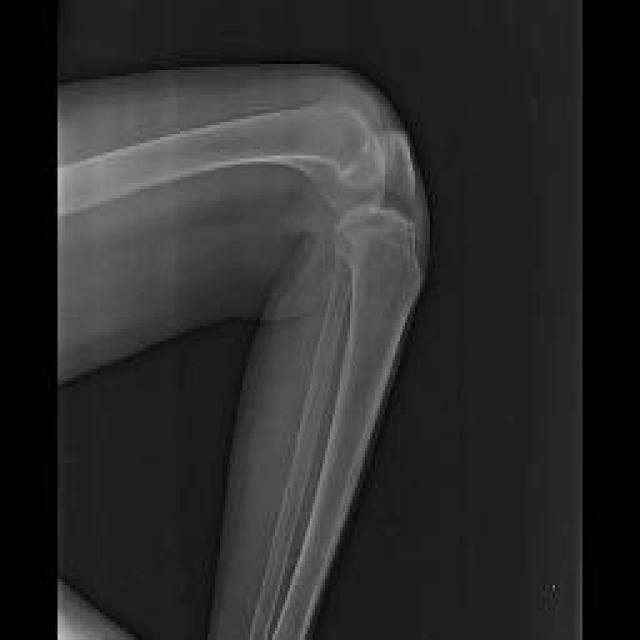normal: (273, 211, 421, 640), (246, 239, 366, 640), (57, 88, 412, 211)
